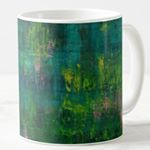cups: (12, 6, 147, 150)
